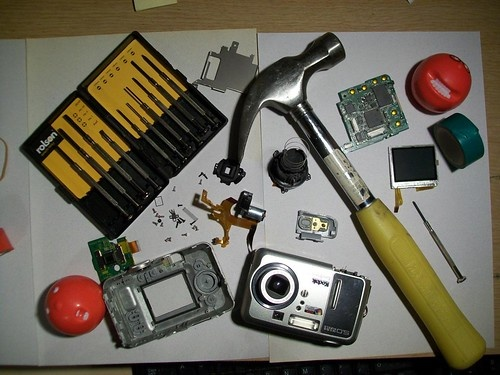hammer: (219, 31, 476, 367)
